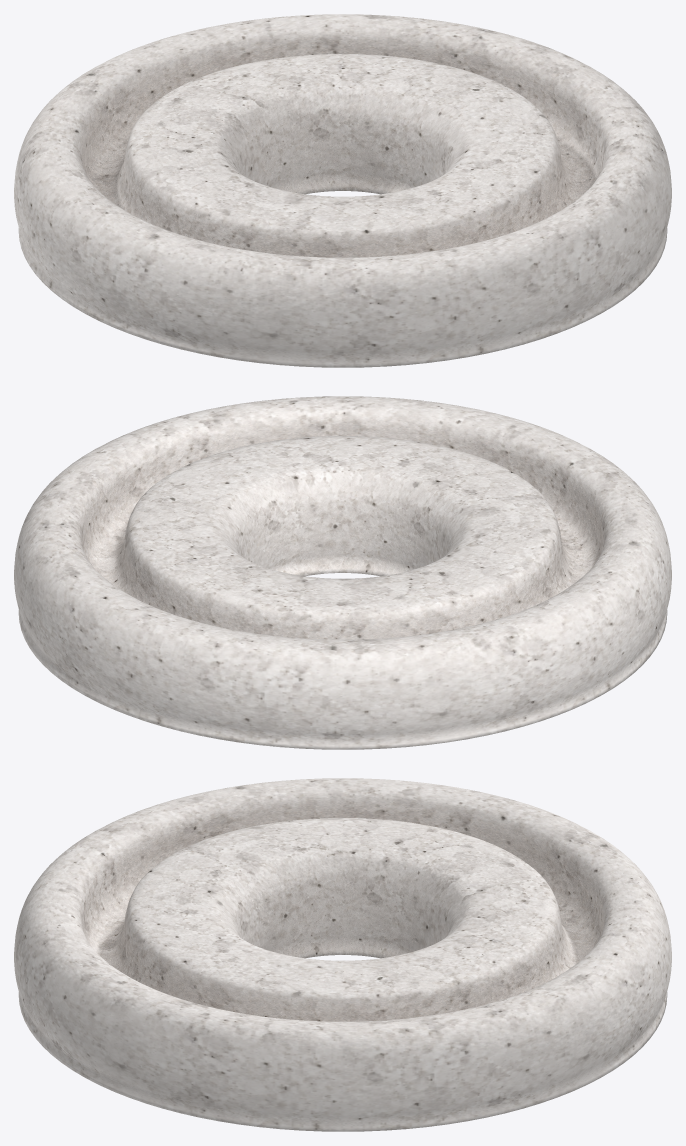
File: tzaar-tzaar-white.glb
3 renders of one model, top to bottom at view 1: azimuth 30°, elevation 25°; view 2: azimuth 150°, elevation 25°; view 3: azimuth 270°, elevation 25°, orthographic.
Parts seen in each view (by area): view 1: tzaar-tzaar-white; view 2: tzaar-tzaar-white; view 3: tzaar-tzaar-white.
Boxes of the visible parts, left/top/right/bottom form: tzaar-tzaar-white: left=14, top=14, right=671, bottom=367; tzaar-tzaar-white: left=14, top=396, right=671, bottom=749; tzaar-tzaar-white: left=14, top=778, right=671, bottom=1131.
Size of the model in its own units: 0.028 by 0.00435 by 0.028.
Materials: 1 (1 with a texture image).
